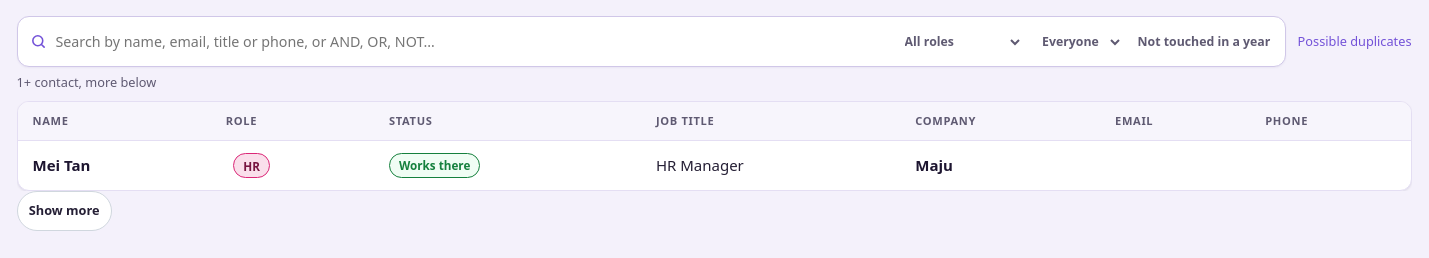
pages through more than one page of contacts and says when there are more
Expected: the link "Mei Tan" is shown, 32,155 -> 90,175
Expected: the text "1+ contact, more below" is shown, 16,73 -> 156,93
What coordinates should you click on to do the following:
click the button "Show more"
I would click on:
 (64, 211)
Its box is 16,191 -> 112,231.
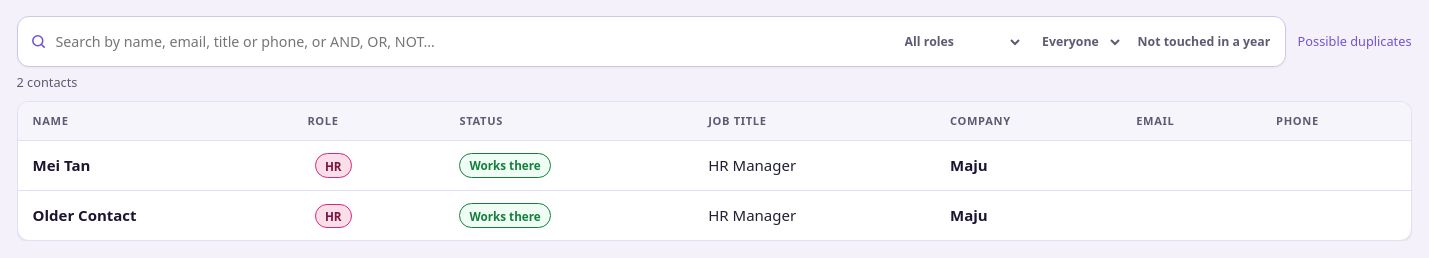
Result: the link "Older Contact" is shown at 32,205 -> 137,225
Result: the button "Show more" is gone
Result: the text "2 contacts" is shown at 16,73 -> 77,93
